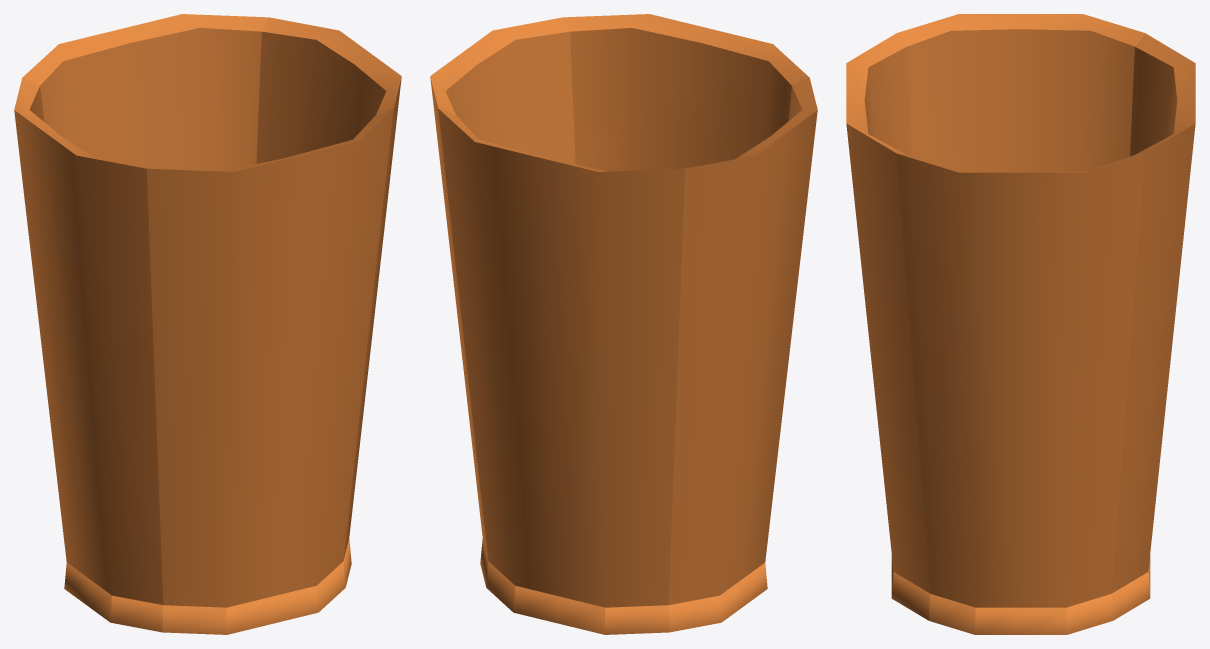
The model's file is MetalCup_mesh 1.fbx.
3 views of the same model, side by side, from view 1: azimuth 30°, elevation 25°; view 2: azimuth 150°, elevation 25°; view 3: azimuth 270°, elevation 25° (orthographic).
Visible parts, largest first — view 1: MetalCup_mesh; view 2: MetalCup_mesh; view 3: MetalCup_mesh.
Boxes of the visible parts, x1,y1,x2,y2 form: MetalCup_mesh: (14,14,401,634); MetalCup_mesh: (430,14,817,634); MetalCup_mesh: (846,14,1195,634).
Bounding box in the file's own units: 21.7 × 30.81 × 20.19.
